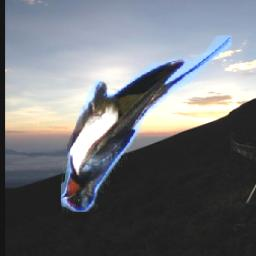Swallow: (61, 37, 234, 213)
